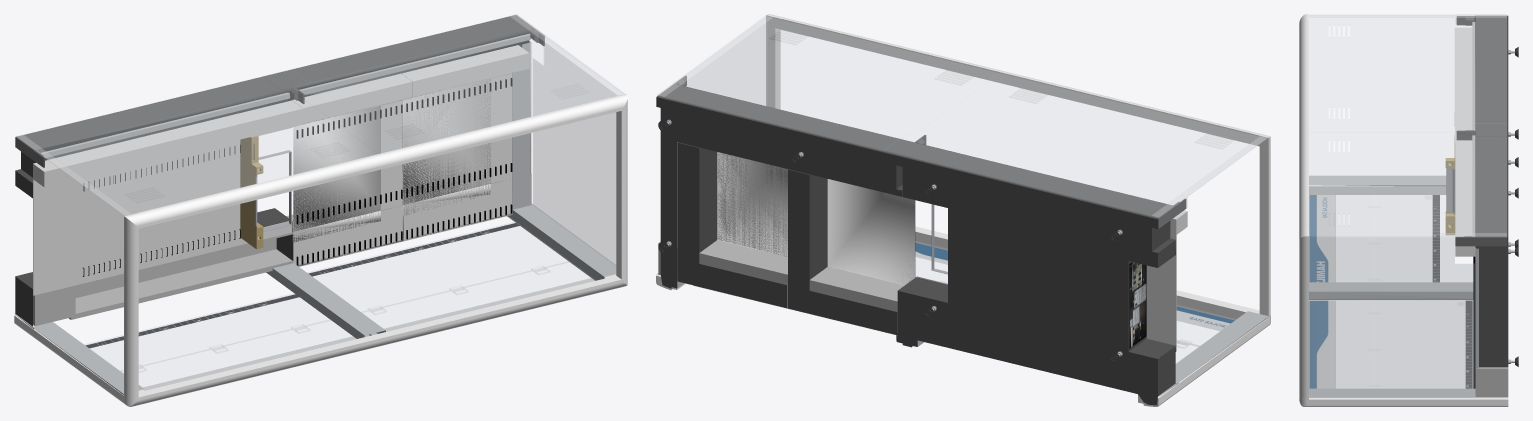
File: STARPlus.glb
3 views of the same model, side by side, from view 1: azimuth 30°, elevation 25°; view 2: azimuth 150°, elevation 25°; view 3: azimuth 270°, elevation 25° (orthographic). The views are drawn at different scales.
Parts seen in each view (by area): view 1: starplus_base; view 2: starplus_base; view 3: starplus_base.
Boxes of the visible parts, x1=… form: starplus_base: x1=14, y1=14, x2=627, y2=406; starplus_base: x1=656, y1=14, x2=1270, y2=406; starplus_base: x1=1299, y1=14, x2=1518, y2=406.
Size of the model in its own units: 2.16 by 0.7926 by 0.903.
15 materials, 5 textured.
